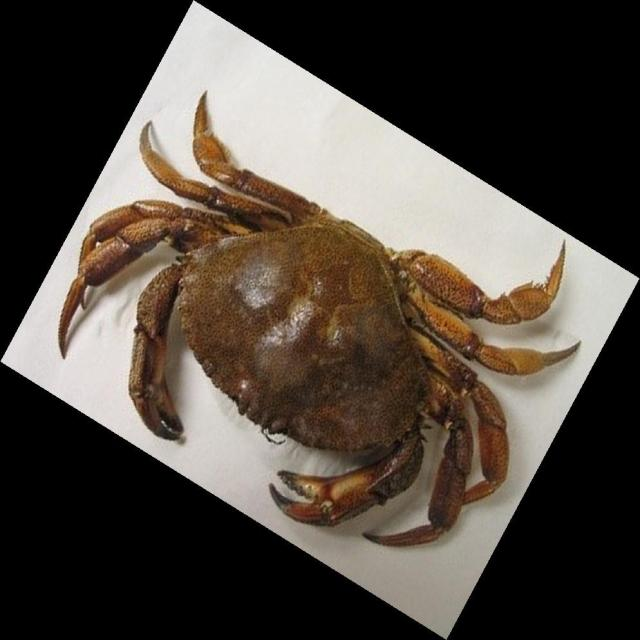Native Rock crab: (57, 91, 579, 547)
